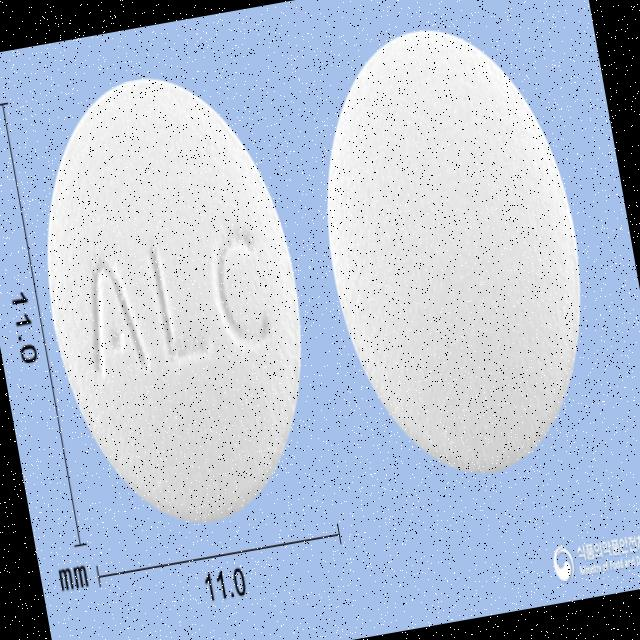Ciprofloxacin Hcl Tab- Arlico: (9, 47, 338, 550), (292, 6, 618, 502)
